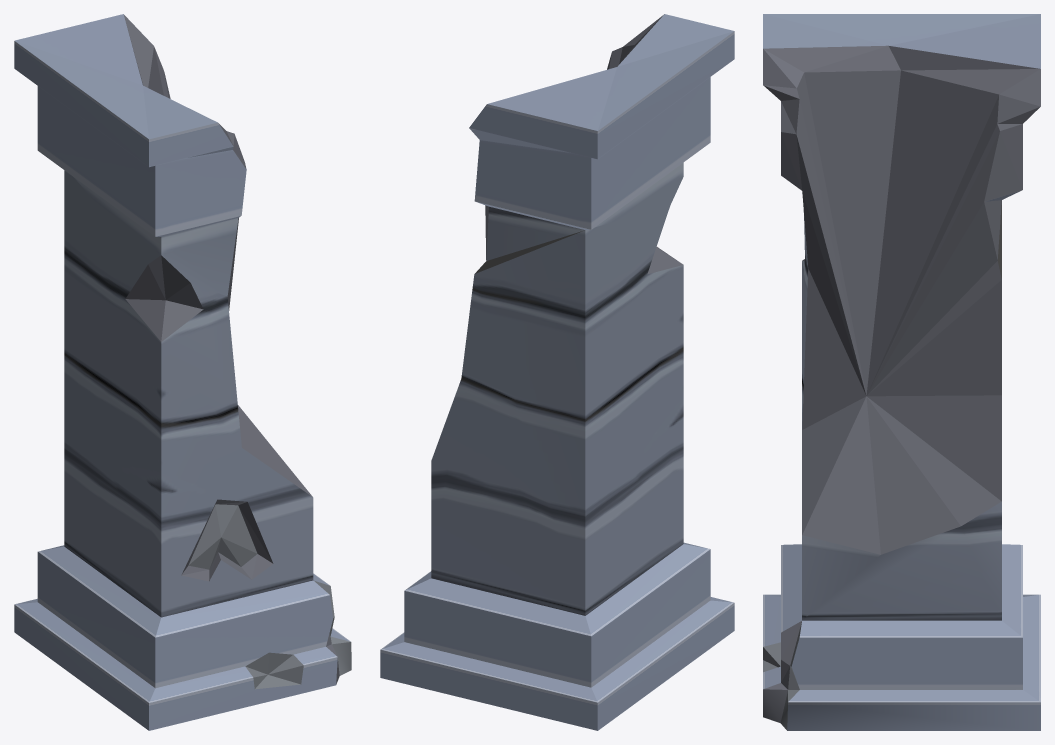
The model's file is Broken_pillar_Center.FBX.
3 renders of one model, left to right at view 1: azimuth 30°, elevation 25°; view 2: azimuth 150°, elevation 25°; view 3: azimuth 270°, elevation 25°, orthographic. The views are drawn at different scales.
Visible parts, largest first — view 1: Broken_pillar_Center; view 2: Broken_pillar_Center; view 3: Broken_pillar_Center.
Boxes of the visible parts, bbox=[...] form: Broken_pillar_Center: bbox=[14, 14, 351, 730]; Broken_pillar_Center: bbox=[380, 14, 734, 730]; Broken_pillar_Center: bbox=[763, 14, 1040, 730].
Bounding box in the file's own units: 29.84 × 78.68 × 32.51.
